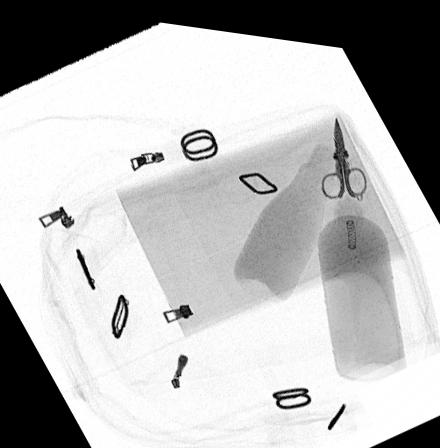Scissors: (318, 105, 367, 190)
